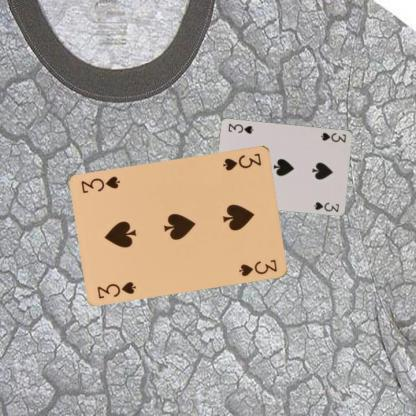3s: (220, 150, 263, 172), (95, 278, 138, 300), (318, 130, 348, 144)
